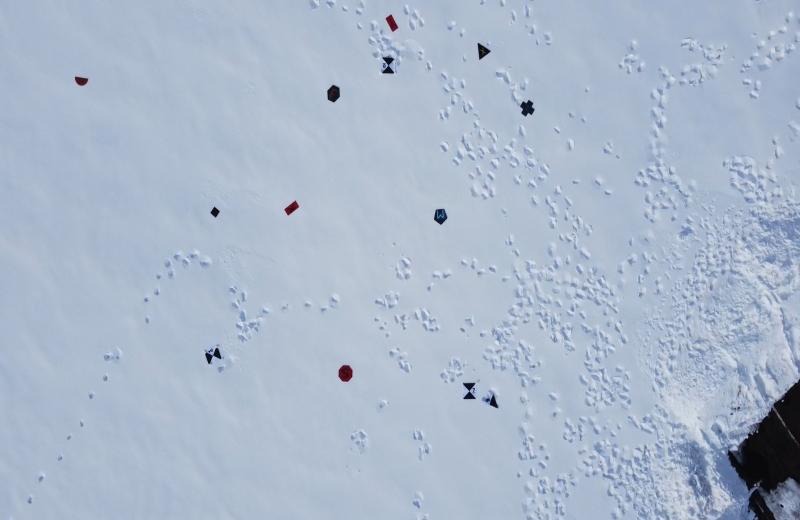Cross: (520, 99, 536, 116)
Hexagon: (326, 84, 342, 103)
Octagon: (338, 365, 354, 382)
Pentagon: (432, 208, 448, 226)
Rectangle: (384, 14, 400, 34), (284, 199, 300, 217)
Semi Circle: (73, 75, 90, 87)
Square: (210, 205, 220, 217)
Triangle: (476, 41, 492, 61)
